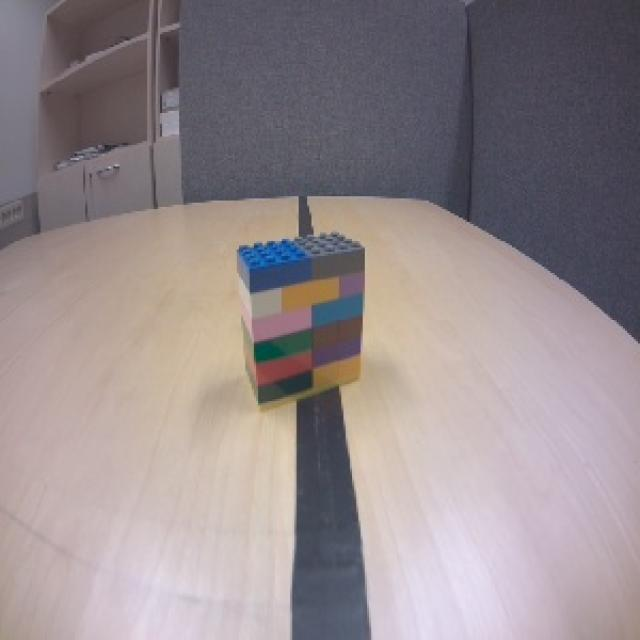obstacle: (234, 227, 366, 416)
